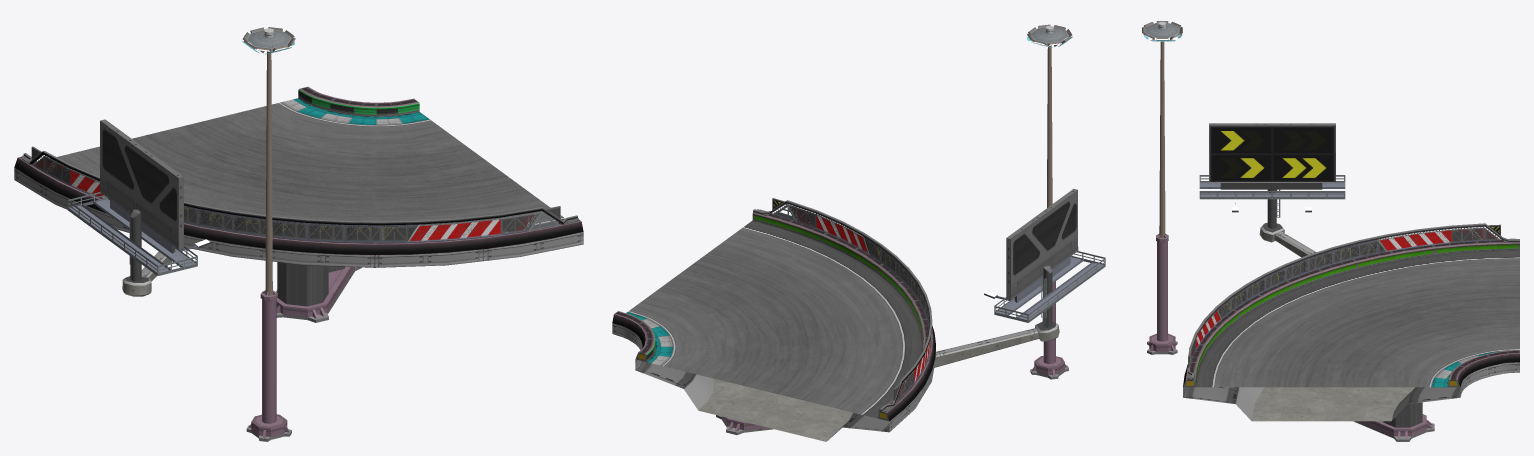
File: T25 - Right.fbx
3 renders of one model, left to right at view 1: azimuth 30°, elevation 25°; view 2: azimuth 150°, elevation 25°; view 3: azimuth 270°, elevation 25°, orthographic. The views are drawn at different scales.
Parts seen in each view (by area): view 1: drift_road, prop_billboard_right, standard_arrow_right, tunnel_wall_drift8, standard_bridge, pro_floodlight_overhead_2, support_pylon, support_pylon_1, support_ground, support_ground_1, tower_attachment; view 2: drift_road, standard_bridge, prop_billboard_right, tunnel_wall_drift8, standard_arrow_right, tower_attachment, pro_floodlight_overhead_2, support_ground_1, support_ground; view 3: drift_road, prop_billboard_right, standard_bridge, standard_arrow_right, tunnel_wall_drift8, pro_floodlight_overhead_2, support_pylon_1, support_ground, tower_attachment, support_pylon, support_ground_1.
Part boxes in pixels (x1,y1,x2,y2): drift_road: (50,98,564,225); prop_billboard_right: (67,119,210,281); standard_arrow_right: (21,146,578,242); tunnel_wall_drift8: (14,86,583,255); standard_bridge: (14,108,583,267); pro_floodlight_overhead_2: (242,27,295,295); support_pylon: (277,262,345,306); support_pylon_1: (262,299,276,423); support_ground: (276,266,361,322); support_ground_1: (246,414,291,441); tower_attachment: (122,251,182,296); drift_road: (626,220,922,418); standard_bridge: (612,323,935,441); prop_billboard_right: (984,188,1105,328); tunnel_wall_drift8: (612,209,935,421); standard_arrow_right: (753,198,932,411); tower_attachment: (934,321,1059,367); pro_floodlight_overhead_2: (1027,24,1072,207); support_ground_1: (1030,356,1068,379); support_ground: (716,415,773,434); drift_road: (1195,250,1519,387); prop_billboard_right: (1199,123,1345,228); standard_bridge: (1183,362,1519,421); standard_arrow_right: (1187,223,1519,379); tunnel_wall_drift8: (1183,239,1519,387); pro_floodlight_overhead_2: (1142,21,1182,237); support_pylon_1: (1157,241,1167,341); support_ground: (1353,414,1434,441); tower_attachment: (1259,223,1316,257); support_pylon: (1383,402,1422,427); support_ground_1: (1147,333,1177,354).
Size of the model in its own units: 6262 by 5790 by 6229.
